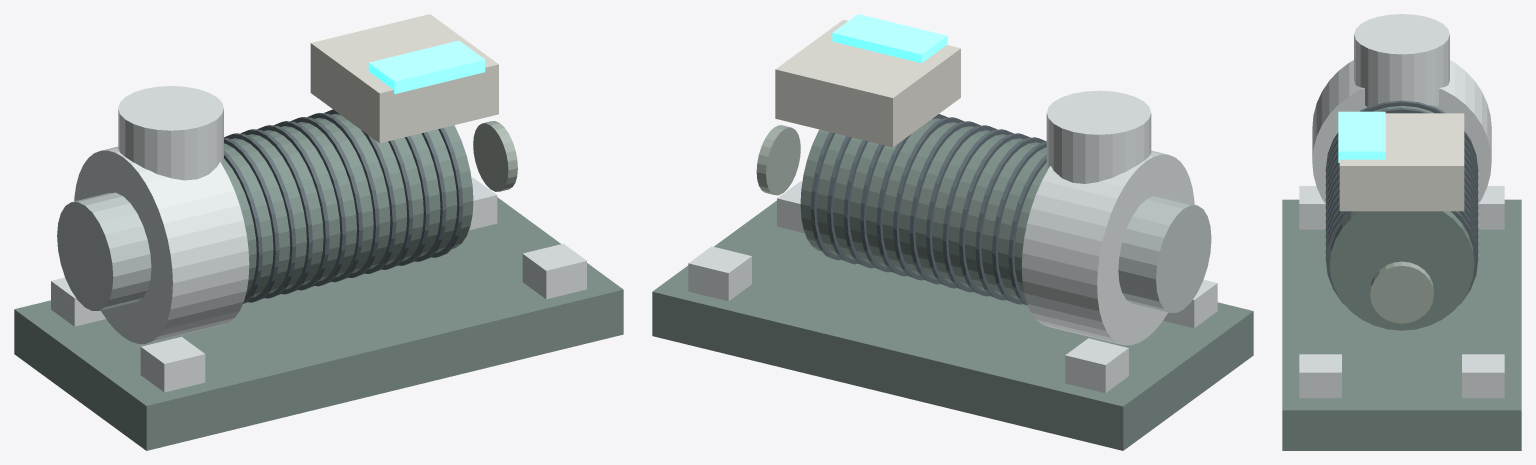
Rendered from s7-i02-pump-industrial.glb.
3 renders of one model, left to right at view 1: azimuth 30°, elevation 25°; view 2: azimuth 150°, elevation 25°; view 3: azimuth 270°, elevation 25°, orthographic. The views are drawn at different scales.
Visible parts, largest first — view 1: 000_reinforced_industrial_base, 005_electric_motor, 019_water_pump_volute, 023_pump_terminal_box, 020_input_flange, 021_upper_output_flange, 024_power_status_led, 002_mounting_foot, 004_mounting_foot, 022_motor_end_cap, 001_mounting_foot, 008_cooling_fin_2 (+13 smaller); view 2: 000_reinforced_industrial_base, 005_electric_motor, 019_water_pump_volute, 023_pump_terminal_box, 020_input_flange, 021_upper_output_flange, 024_power_status_led, 001_mounting_foot, 003_mounting_foot, 022_motor_end_cap, 002_mounting_foot, 009_cooling_fin_3 (+13 smaller); view 3: 000_reinforced_industrial_base, 005_electric_motor, 023_pump_terminal_box, 021_upper_output_flange, 019_water_pump_volute, 022_motor_end_cap, 024_power_status_led, 003_mounting_foot, 004_mounting_foot, 001_mounting_foot, 002_mounting_foot, 018_cooling_fin_12 (+11 smaller).
Boxes of the visible parts, box(x1,y1,x2,y2) form: 000_reinforced_industrial_base: box(14, 197, 623, 450); 005_electric_motor: box(224, 114, 473, 297); 019_water_pump_volute: box(74, 146, 249, 343); 023_pump_terminal_box: box(310, 14, 498, 143); 020_input_flange: box(57, 192, 151, 310); 021_upper_output_flange: box(118, 86, 223, 180); 024_power_status_led: box(368, 40, 485, 93); 002_mounting_foot: box(140, 336, 205, 392); 004_mounting_foot: box(522, 243, 586, 299); 022_motor_end_cap: box(473, 121, 517, 191); 001_mounting_foot: box(51, 277, 105, 326); 008_cooling_fin_2: box(224, 133, 296, 298); 000_reinforced_industrial_base: box(652, 200, 1253, 450); 005_electric_motor: box(800, 118, 1046, 299); 019_water_pump_volute: box(1021, 150, 1194, 345); 023_pump_terminal_box: box(775, 19, 960, 147); 020_input_flange: box(1118, 196, 1211, 312); 021_upper_output_flange: box(1046, 90, 1151, 183); 024_power_status_led: box(832, 14, 947, 63); 001_mounting_foot: box(1065, 338, 1128, 393); 003_mounting_foot: box(688, 246, 751, 301); 022_motor_end_cap: box(756, 125, 800, 195); 002_mounting_foot: box(1163, 280, 1217, 328); 009_cooling_fin_3: box(959, 133, 1029, 296); 000_reinforced_industrial_base: box(1282, 199, 1521, 450); 005_electric_motor: box(1329, 105, 1474, 330); 023_pump_terminal_box: box(1339, 113, 1464, 211); 021_upper_output_flange: box(1354, 14, 1449, 106); 019_water_pump_volute: box(1312, 60, 1491, 204); 022_motor_end_cap: box(1370, 261, 1433, 323); 024_power_status_led: box(1338, 111, 1385, 162); 003_mounting_foot: box(1462, 354, 1504, 398); 004_mounting_foot: box(1299, 354, 1341, 398); 001_mounting_foot: box(1478, 186, 1504, 229); 002_mounting_foot: box(1299, 186, 1325, 229); 018_cooling_fin_12: box(1325, 211, 1478, 304).
Bounding box in the file's own units: 1.05 × 0.5854 × 0.504.
